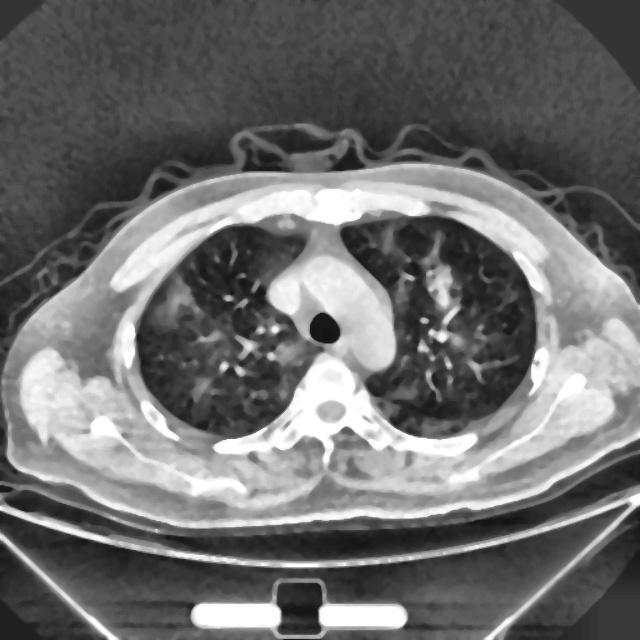covid: (1, 127, 638, 538)
